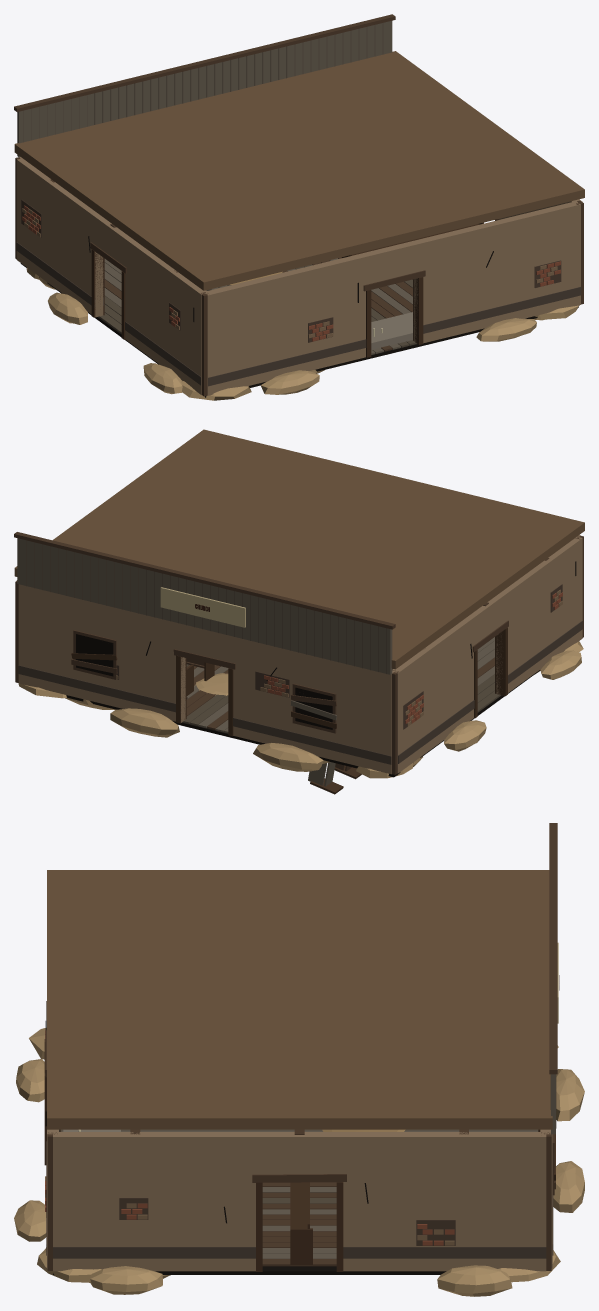
The model's file is TownBldg_church.glb.
3 renders of one model, top to bottom at view 1: azimuth 30°, elevation 25°; view 2: azimuth 150°, elevation 25°; view 3: azimuth 270°, elevation 25°, orthographic. The views are drawn at different scales.
Parts seen in each view (by area): view 1: TownBldg_church.001; view 2: TownBldg_church.001; view 3: TownBldg_church.001.
Part boxes in pixels (x1,y1,x2,y2): TownBldg_church.001: (14,14,584,400); TownBldg_church.001: (14,429,584,794); TownBldg_church.001: (14,823,584,1296).
Bounding box in the file's own units: 15.88 × 7.55 × 13.89.
